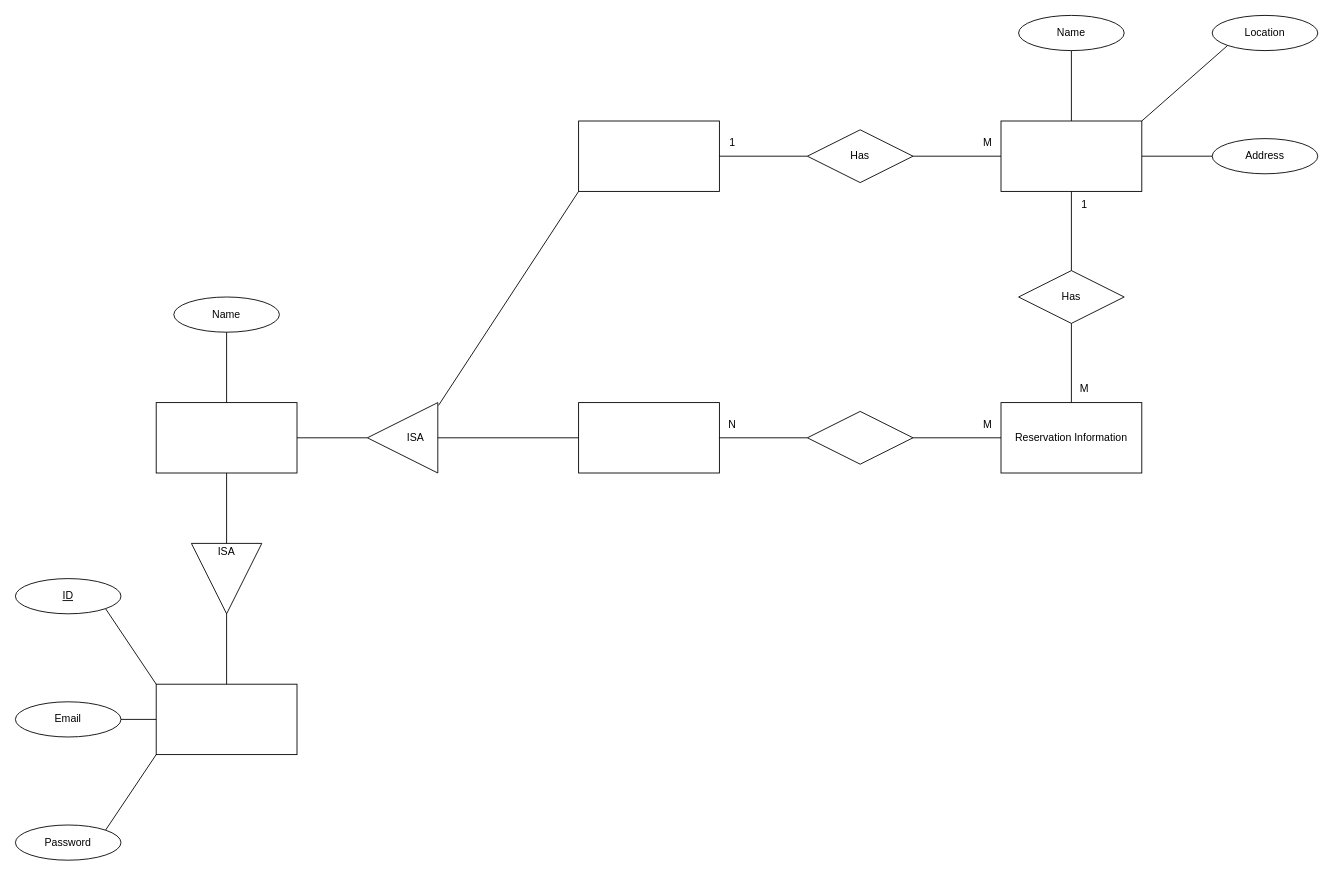
This 1333x876 diagram has some shape labels left out. The shapes that lost their labels are listed below. From the top down, each one's box as (x1, y1, x2, y2) in pixels, then its label:
(578, 120, 719, 191): Hotel Admin
(1000, 120, 1142, 191): Hotel
(155, 402, 297, 473): General User
(578, 402, 719, 473): Customer
(807, 411, 913, 464): Selects
(155, 683, 297, 755): Sys Admin
